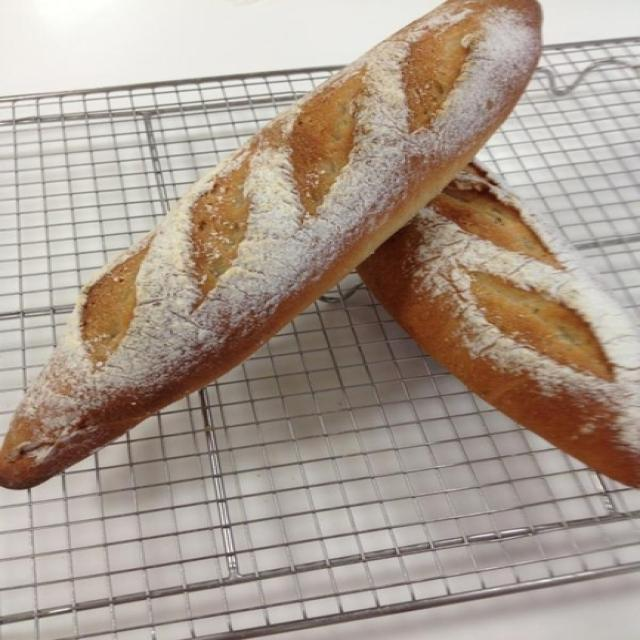面包点心: (19, 4, 624, 610)
